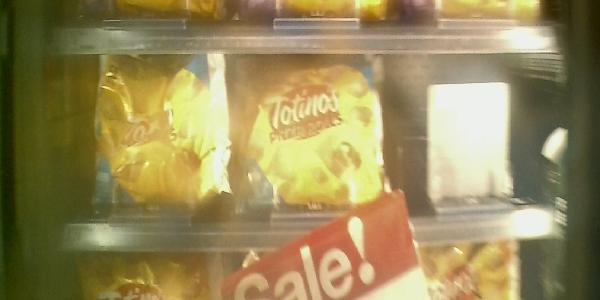icecream: (226, 51, 394, 218), (89, 56, 231, 213)
